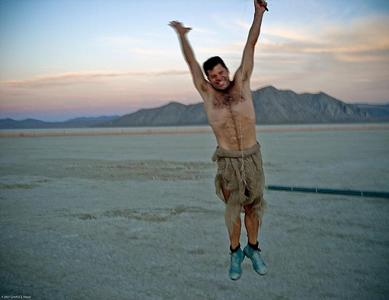person: (169, 2, 272, 281)
